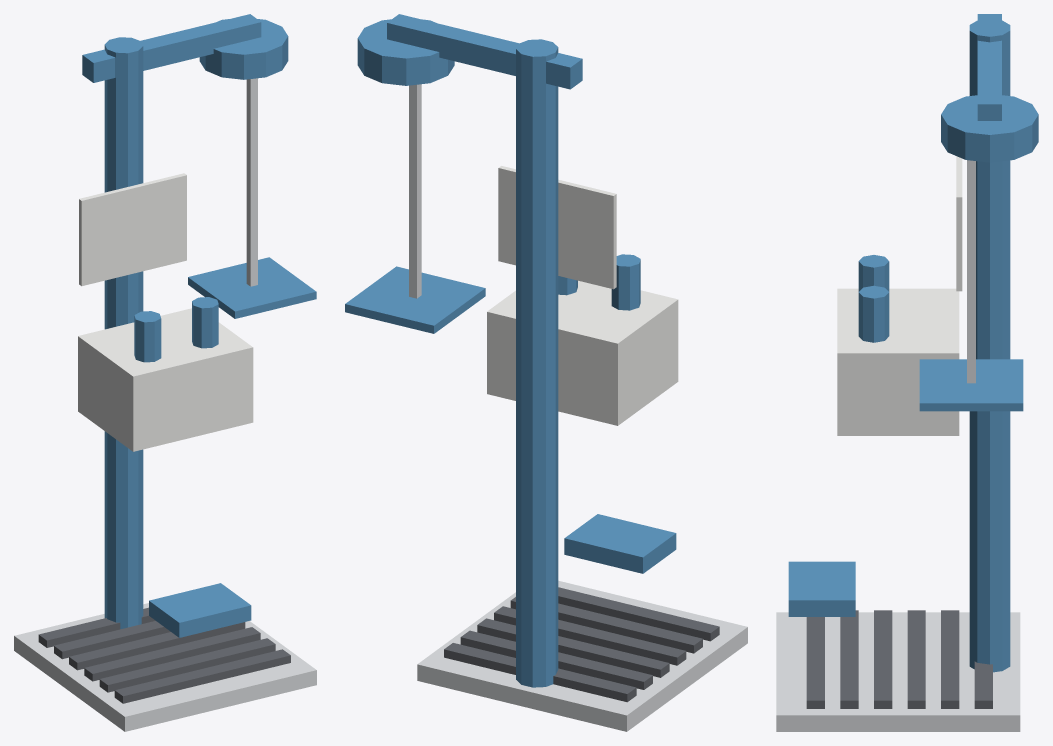
Rendered from shipyard-and-dry-dock-shipyard-and-dry-dock-eyewash-st-6e8b6c70__37966.glb.
The picture shows the model from 3 angles, left to right: view 1: azimuth 30°, elevation 25°; view 2: azimuth 150°, elevation 25°; view 3: azimuth 270°, elevation 25°; orthographic projection. The views are drawn at different scales.
Parts seen in each view (by area): view 1: shipyard-and-dry-dock-eyewash-station; view 2: shipyard-and-dry-dock-eyewash-station; view 3: shipyard-and-dry-dock-eyewash-station.
Boxes of the visible parts, x1,y1,x2,y2 form: shipyard-and-dry-dock-eyewash-station: [14, 14, 316, 731]; shipyard-and-dry-dock-eyewash-station: [345, 14, 747, 731]; shipyard-and-dry-dock-eyewash-station: [776, 14, 1038, 731].
Bounding box in the file's own units: 1.07 × 2.36 × 0.86.
